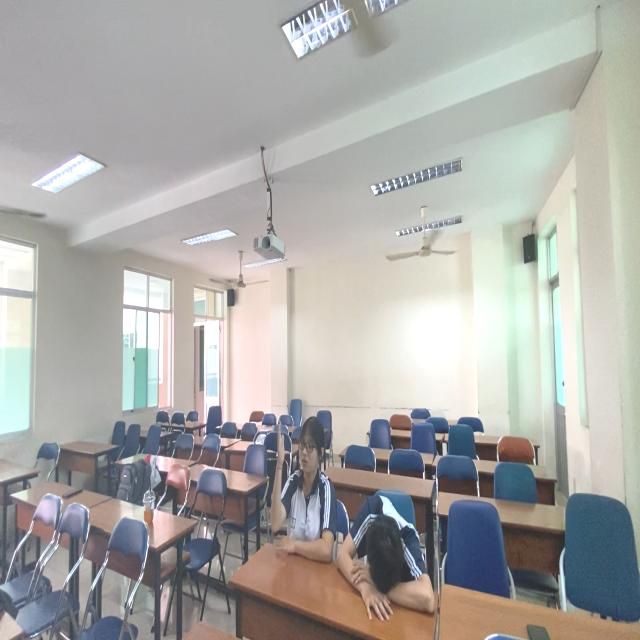raise_hand: (266, 415, 332, 554)
sleep: (335, 495, 439, 620)
